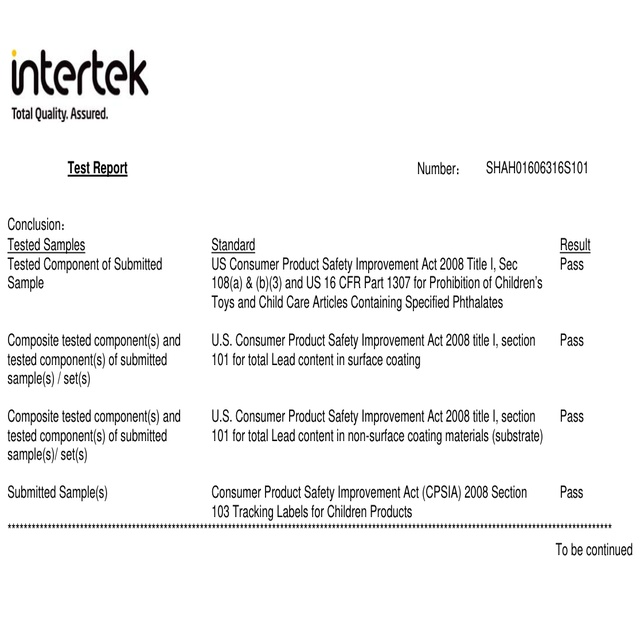intertek: (8, 44, 153, 98)
